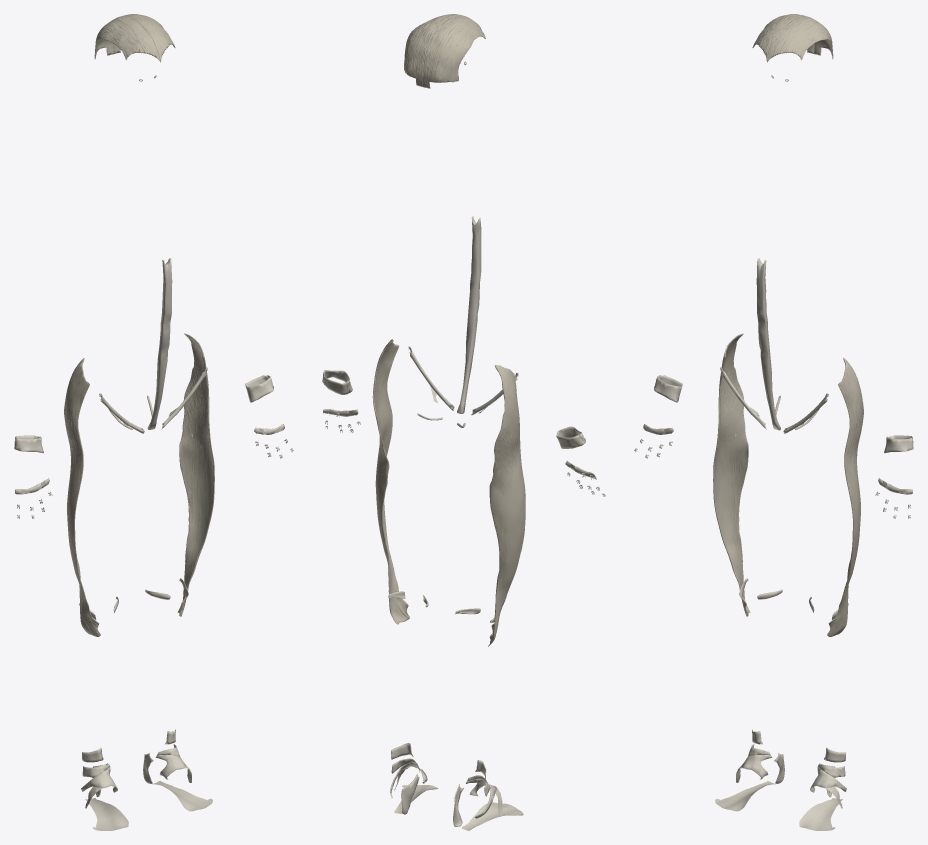
Rendered from adult_male.fascia.LOD0.glb.
3 views of the same model, side by side, from view 1: azimuth 30°, elevation 25°; view 2: azimuth 150°, elevation 25°; view 3: azimuth 330°, elevation 25° (orthographic).
Parts seen in each view (by area): view 1: ADULT.MALE.FASCIA.ILIOTIBIAL_TRACT.L, ADULT.MALE.FASCIA.ILIOTIBIAL_TRACT.R, ADULT.MALE.FASCIA.EPICRANIAL_APONEUROSIS.R, ADULT.MALE.FASCIA.LINEA_ALBA, ADULT.MALE.FASCIA.EPICRANIAL_APONEUROSIS.L, ADULT.MALE.FASCIA.PLANTAR_APONEUROSIS.R; view 2: ADULT.MALE.FASCIA.ILIOTIBIAL_TRACT.R, ADULT.MALE.FASCIA.ILIOTIBIAL_TRACT.L, ADULT.MALE.FASCIA.EPICRANIAL_APONEUROSIS.R, ADULT.MALE.FASCIA.LINEA_ALBA, ADULT.MALE.FASCIA.EPICRANIAL_APONEUROSIS.L, ADULT.MALE.FASCIA.PLANTAR_APONEUROSIS.R; view 3: ADULT.MALE.FASCIA.ILIOTIBIAL_TRACT.R, ADULT.MALE.FASCIA.ILIOTIBIAL_TRACT.L, ADULT.MALE.FASCIA.EPICRANIAL_APONEUROSIS.L, ADULT.MALE.FASCIA.LINEA_ALBA, ADULT.MALE.FASCIA.EPICRANIAL_APONEUROSIS.R, ADULT.MALE.FASCIA.PLANTAR_APONEUROSIS.L.
Boxes of the visible parts, left/top/right/bottom form: ADULT.MALE.FASCIA.ILIOTIBIAL_TRACT.L: left=177, top=333, right=214, bottom=616; ADULT.MALE.FASCIA.ILIOTIBIAL_TRACT.R: left=64, top=358, right=100, bottom=636; ADULT.MALE.FASCIA.EPICRANIAL_APONEUROSIS.R: left=94, top=15, right=160, bottom=61; ADULT.MALE.FASCIA.LINEA_ALBA: left=147, top=258, right=172, bottom=429; ADULT.MALE.FASCIA.EPICRANIAL_APONEUROSIS.L: left=113, top=14, right=175, bottom=61; ADULT.MALE.FASCIA.PLANTAR_APONEUROSIS.R: left=85, top=798, right=128, bottom=827; ADULT.MALE.FASCIA.ILIOTIBIAL_TRACT.R: left=488, top=365, right=525, bottom=646; ADULT.MALE.FASCIA.ILIOTIBIAL_TRACT.L: left=372, top=339, right=409, bottom=624; ADULT.MALE.FASCIA.EPICRANIAL_APONEUROSIS.R: left=422, top=15, right=485, bottom=88; ADULT.MALE.FASCIA.LINEA_ALBA: left=457, top=216, right=481, bottom=413; ADULT.MALE.FASCIA.EPICRANIAL_APONEUROSIS.L: left=404, top=14, right=459, bottom=86; ADULT.MALE.FASCIA.PLANTAR_APONEUROSIS.R: left=462, top=802, right=517, bottom=830; ADULT.MALE.FASCIA.ILIOTIBIAL_TRACT.R: left=713, top=333, right=750, bottom=616; ADULT.MALE.FASCIA.ILIOTIBIAL_TRACT.L: left=827, top=358, right=863, bottom=636; ADULT.MALE.FASCIA.EPICRANIAL_APONEUROSIS.L: left=767, top=15, right=833, bottom=61; ADULT.MALE.FASCIA.LINEA_ALBA: left=756, top=258, right=780, bottom=430; ADULT.MALE.FASCIA.EPICRANIAL_APONEUROSIS.R: left=752, top=14, right=814, bottom=61; ADULT.MALE.FASCIA.PLANTAR_APONEUROSIS.L: left=799, top=798, right=842, bottom=827.
Size of the model in its own units: 0.6279 by 1.7 by 0.2205.
